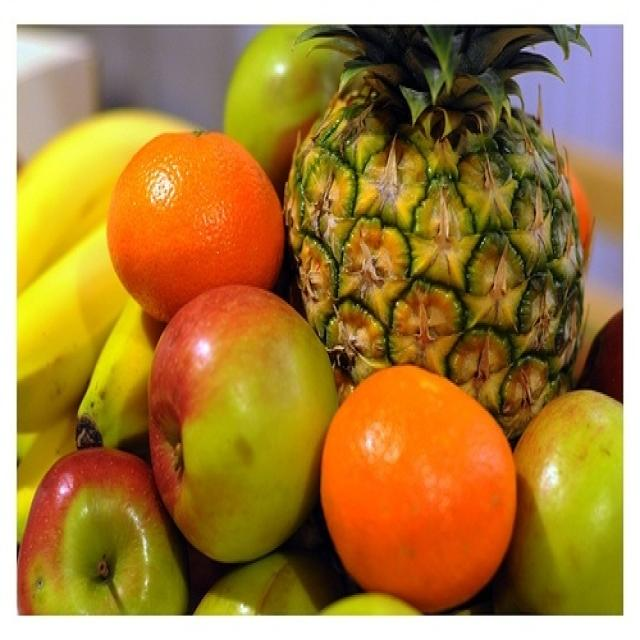Apple: (145, 286, 330, 564), (17, 444, 184, 614), (519, 394, 624, 612), (225, 23, 344, 158), (196, 554, 314, 616)
Bananas: (14, 113, 108, 434)
Orange: (321, 368, 517, 604), (108, 128, 286, 310)
Pineapple: (285, 26, 596, 435)
